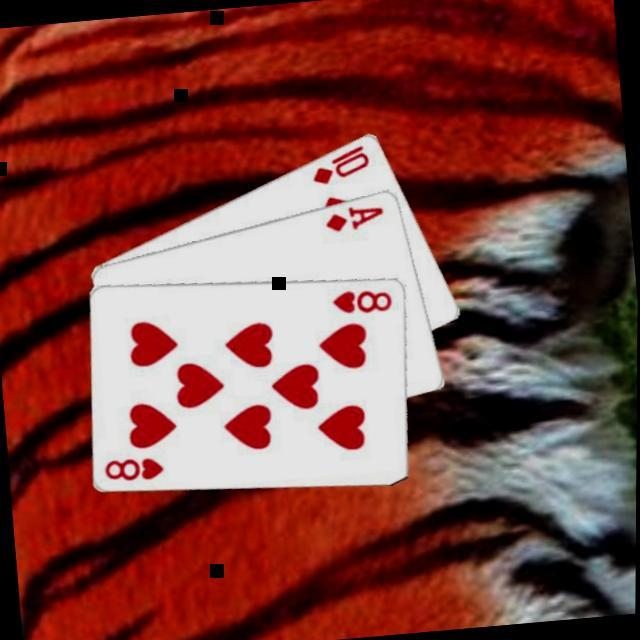10D: (307, 142, 372, 189)
8H: (329, 285, 395, 319), (101, 452, 167, 486)
AD: (320, 202, 386, 235)
